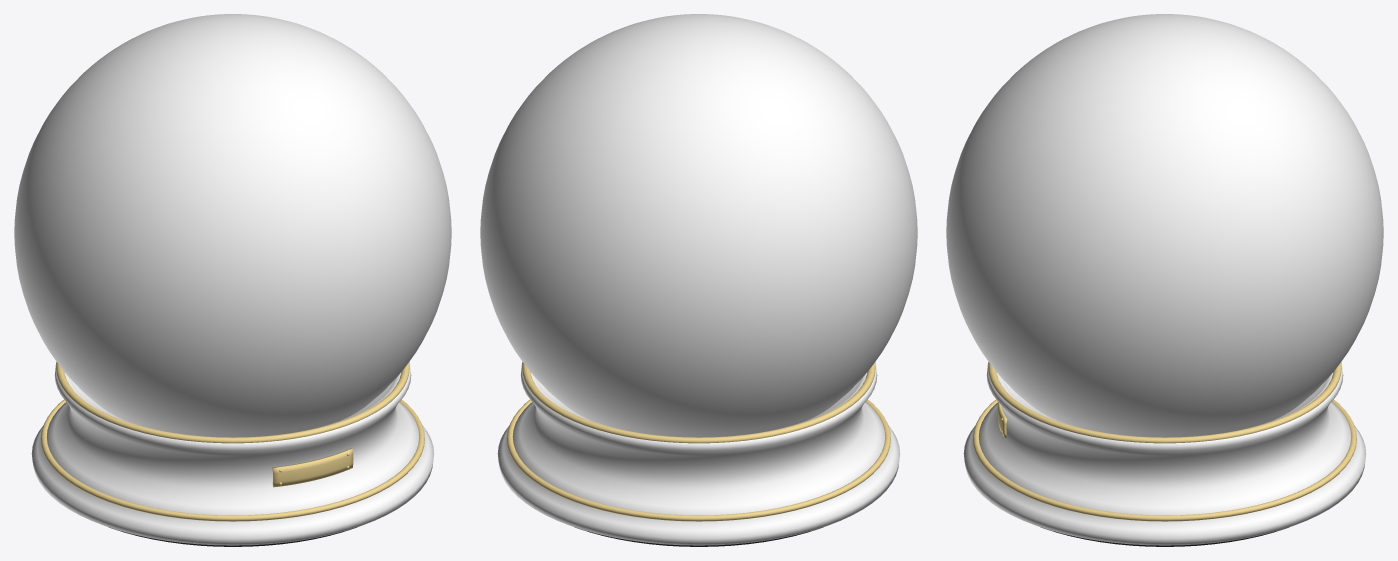
File: four-seasons-globe.glb
3 views of the same model, side by side, from view 1: azimuth 30°, elevation 25°; view 2: azimuth 150°, elevation 25°; view 3: azimuth 270°, elevation 25° (orthographic).
Visible parts, largest first — view 1: shared_glass_dome, shared_wood_base, shared_brass_bottom, shared_brass_top, shared_brass_plaque; view 2: shared_glass_dome, shared_wood_base, shared_brass_bottom, shared_brass_top; view 3: shared_glass_dome, shared_wood_base, shared_brass_bottom, shared_brass_top.
Boxes of the visible parts, x1,y1,x2,y2 form: shared_glass_dome: (14,14,451,437); shared_wood_base: (31,362,434,545); shared_brass_bottom: (41,399,424,521); shared_brass_top: (56,362,409,443); shared_brass_plaque: (272,448,353,487); shared_glass_dome: (480,14,917,437); shared_wood_base: (497,362,900,545); shared_brass_bottom: (507,399,890,521); shared_brass_top: (522,362,875,443); shared_glass_dome: (946,14,1383,437); shared_wood_base: (963,362,1366,545); shared_brass_bottom: (973,399,1356,521); shared_brass_top: (988,362,1341,443).
Size of the model in its own units: 2 by 2.29 by 2.
